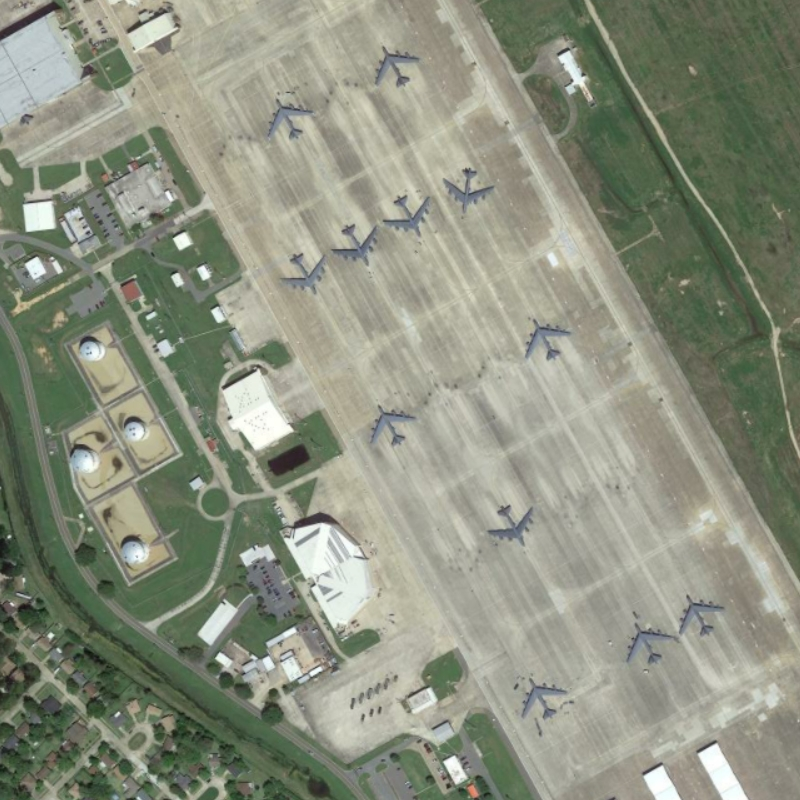A8: (439, 165, 497, 217), (522, 315, 575, 365), (329, 222, 382, 271), (381, 190, 434, 238), (366, 402, 419, 450), (623, 620, 676, 668), (277, 250, 330, 297), (370, 43, 422, 90), (484, 502, 537, 548), (266, 95, 315, 144), (520, 675, 569, 722), (678, 591, 727, 637)
